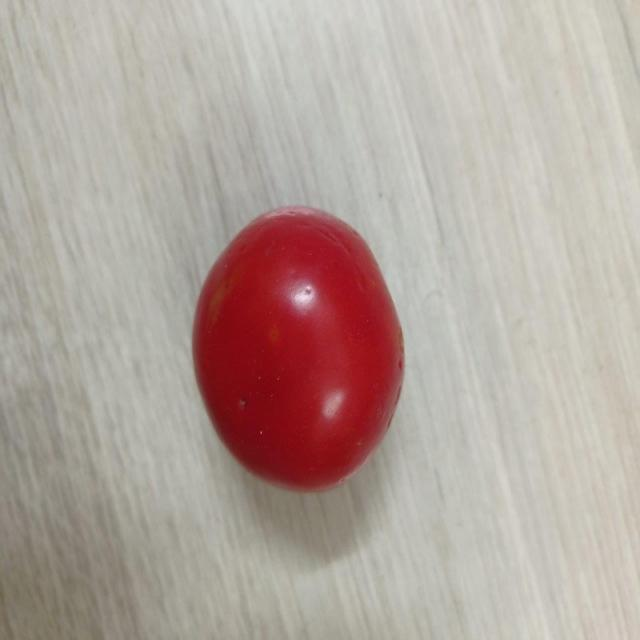Ripe: (189, 206, 409, 497)
